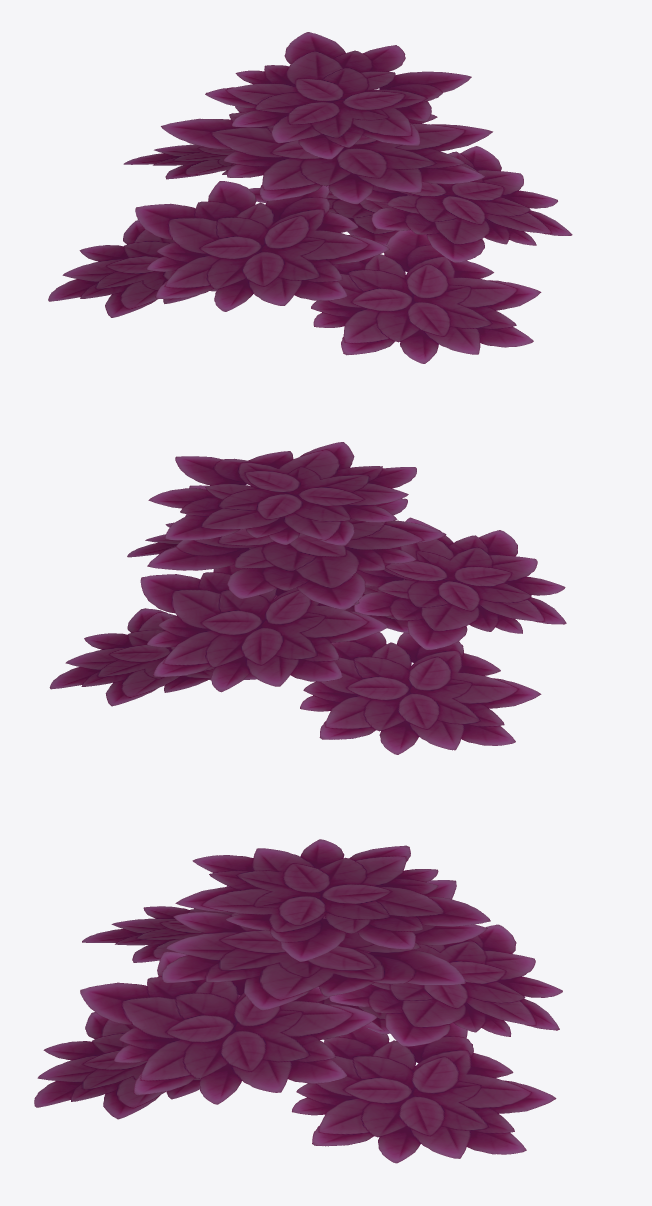
File: TwistedJungle_Plant03.FBX
3 renders of one model, top to bottom at view 1: azimuth 30°, elevation 25°; view 2: azimuth 150°, elevation 25°; view 3: azimuth 270°, elevation 25°, orthographic. The views are drawn at different scales.
Visible parts, largest first — view 1: TwistedJungle_Plant03; view 2: TwistedJungle_Plant03; view 3: TwistedJungle_Plant03.
Boxes of the visible parts, left/top/right/bottom form: TwistedJungle_Plant03: left=48, top=32, right=572, bottom=363; TwistedJungle_Plant03: left=49, top=442, right=566, bottom=754; TwistedJungle_Plant03: left=34, top=839, right=562, bottom=1163.
Bounding box in the file's own units: 239 × 71.23 × 223.
